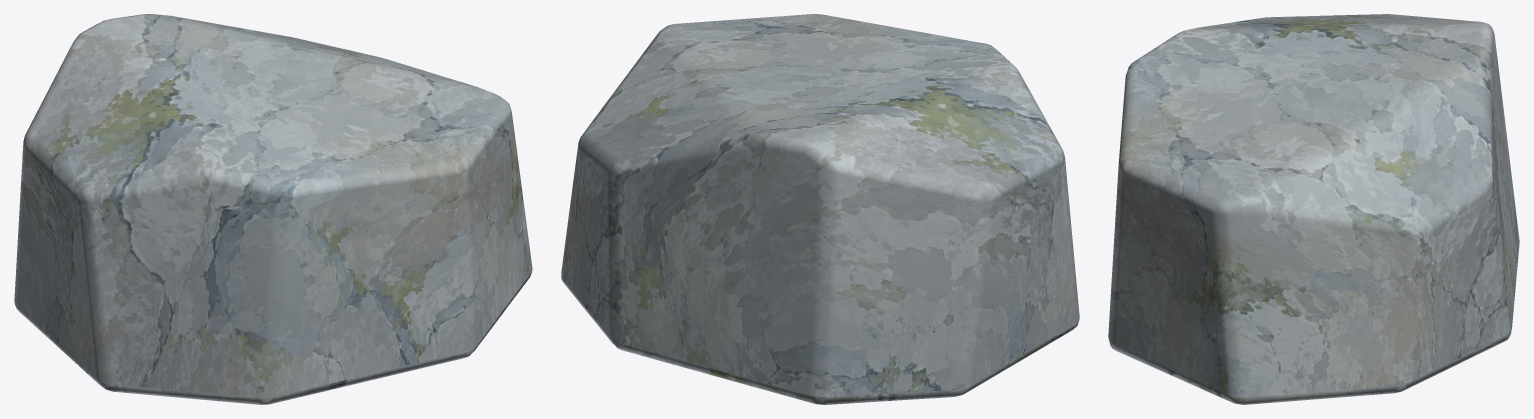
File: SM_FracturedForestRock_01.fbx
3 renders of one model, left to right at view 1: azimuth 30°, elevation 25°; view 2: azimuth 150°, elevation 25°; view 3: azimuth 270°, elevation 25°, orthographic. The views are drawn at different scales.
Visible parts, largest first — view 1: SM_FracturedForestRock_01; view 2: SM_FracturedForestRock_01; view 3: SM_FracturedForestRock_01.
Part boxes in pixels (x1=…): SM_FracturedForestRock_01: x1=14, y1=14, x2=532, y2=404; SM_FracturedForestRock_01: x1=561, y1=14, x2=1079, y2=404; SM_FracturedForestRock_01: x1=1108, y1=14, x2=1519, y2=404.
Size of the model in its own units: 2.76 by 2.27 by 1.48.
